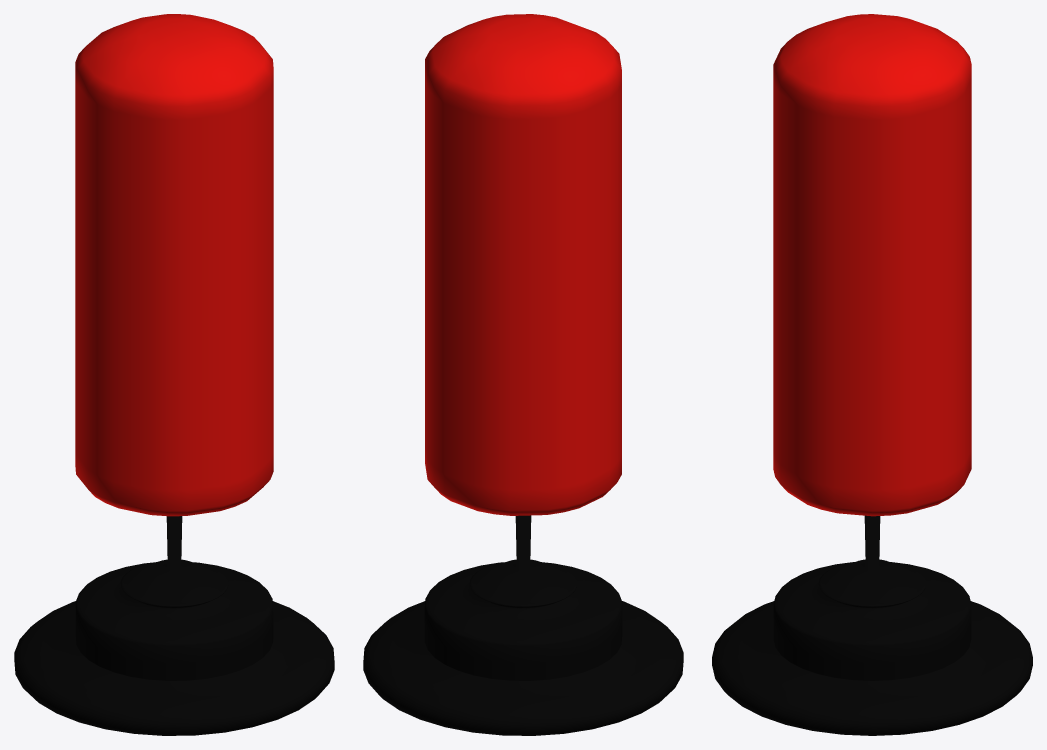
The model's file is KUM TORBASI.fbx.
The picture shows the model from 3 angles, left to right: view 1: azimuth 30°, elevation 25°; view 2: azimuth 150°, elevation 25°; view 3: azimuth 270°, elevation 25°; orthographic projection.
Parts seen in each view (by area): view 1: Cylinder, Cylinder.001; view 2: Cylinder, Cylinder.001; view 3: Cylinder, Cylinder.001.
Part boxes in pixels (x1=…): Cylinder: x1=75, y1=14, x2=273, y2=516; Cylinder.001: x1=14, y1=516, x2=334, y2=735; Cylinder: x1=425, y1=14, x2=621, y2=515; Cylinder.001: x1=363, y1=515, x2=683, y2=735; Cylinder: x1=773, y1=14, x2=971, y2=516; Cylinder.001: x1=712, y1=515, x2=1032, y2=735.
Bounding box in the file's own units: 291 × 646 × 291.
